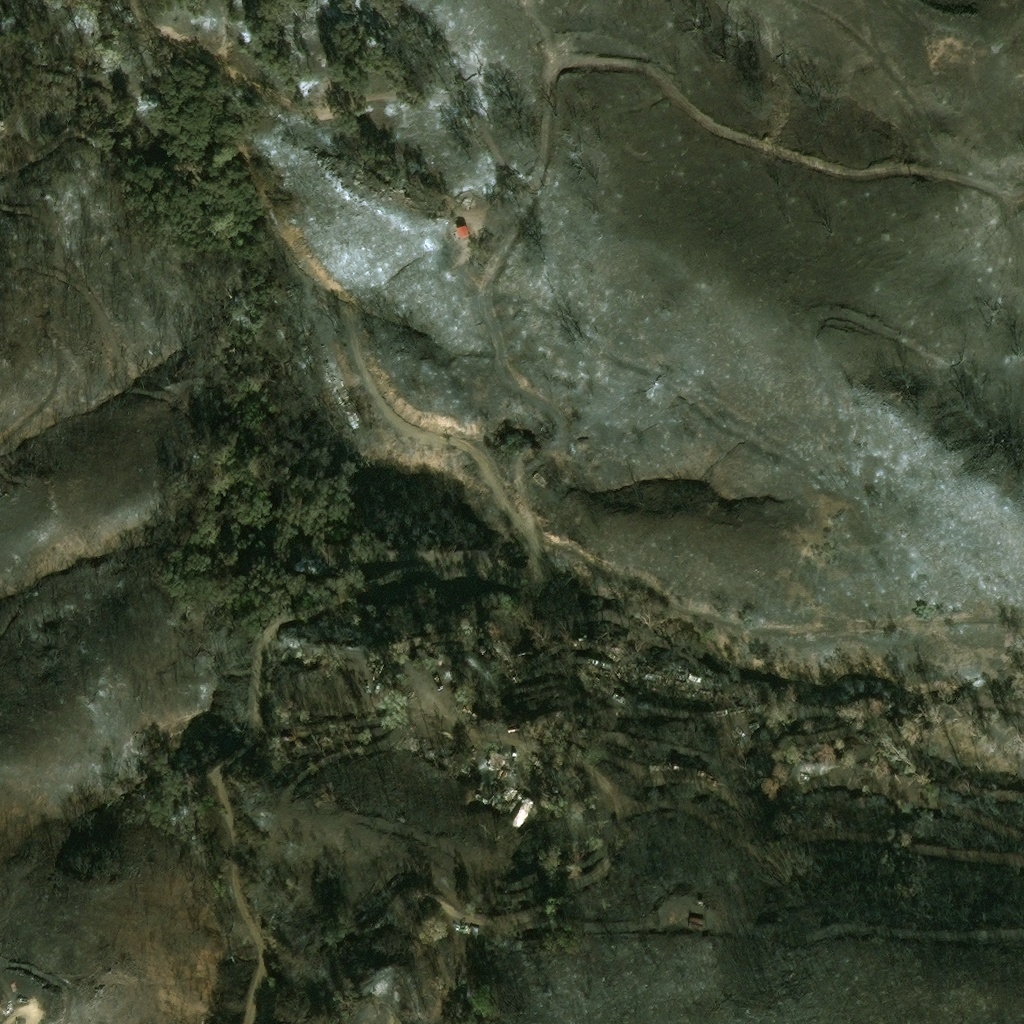1 minor-damage: (455, 223, 468, 236)
2 major-damage: (479, 772, 535, 827)
3 destroyed: (628, 658, 662, 691), (961, 673, 987, 695), (332, 388, 352, 410), (296, 553, 321, 570), (677, 681, 702, 698), (454, 921, 481, 933), (371, 907, 391, 923), (506, 748, 519, 767), (2, 998, 11, 1014), (462, 193, 472, 204)
